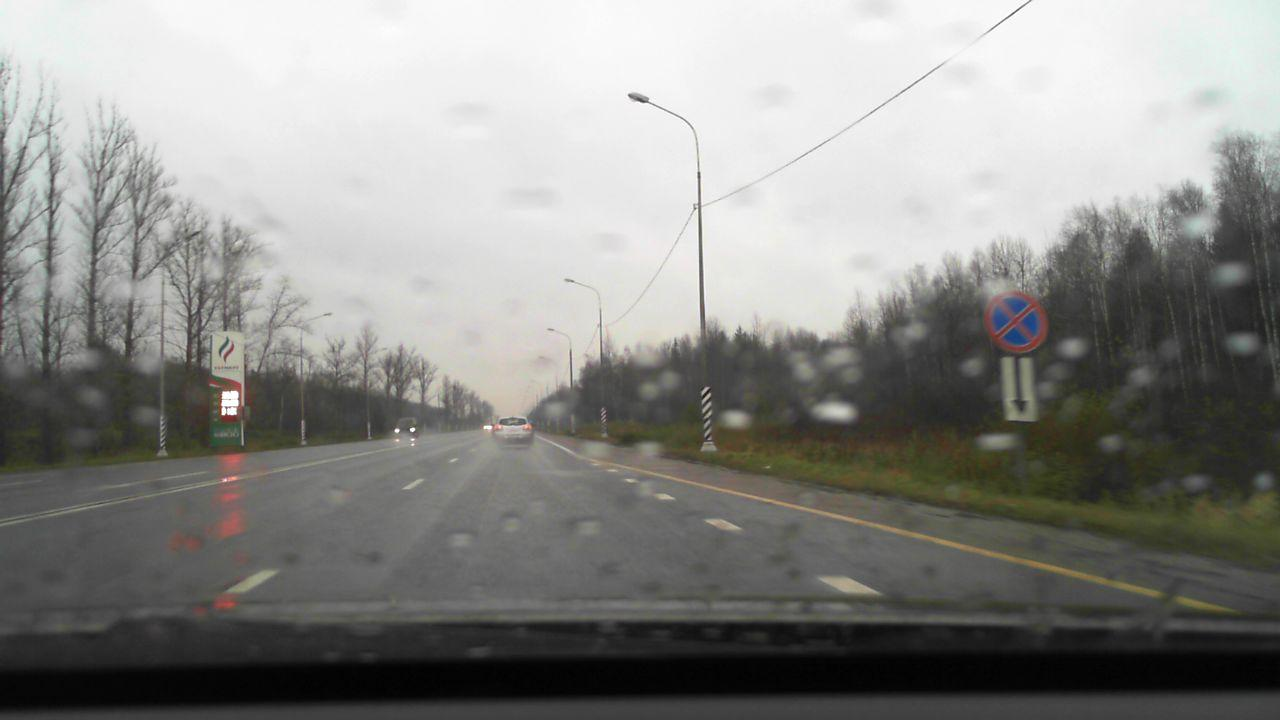3_27: (984, 283, 1050, 354)
8_2_3: (1000, 356, 1038, 421)
